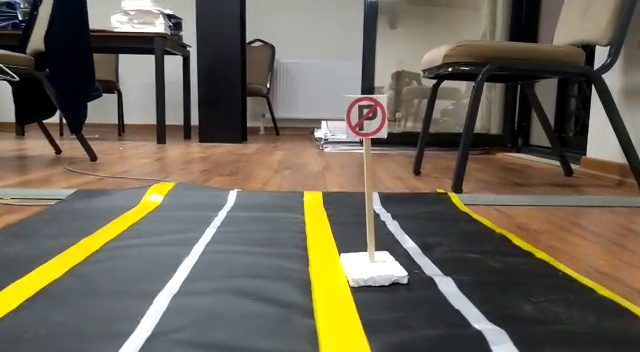park_yapilmaz: (342, 98, 390, 140)
